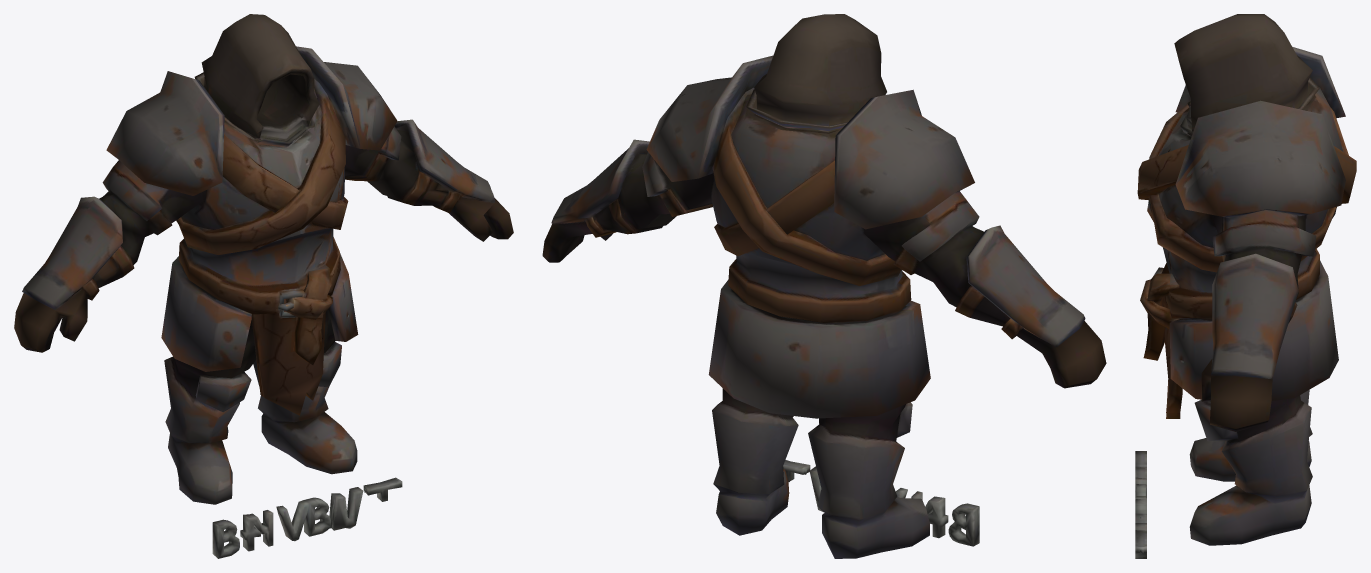
3 views of the same model, side by side, from view 1: azimuth 30°, elevation 25°; view 2: azimuth 150°, elevation 25°; view 3: azimuth 270°, elevation 25° (orthographic). The views are drawn at different scales.
Parts seen in each view (by area): view 1: tripo_node_ca54182f-46a4-43b2-9b21-131967386d23; view 2: tripo_node_ca54182f-46a4-43b2-9b21-131967386d23; view 3: tripo_node_ca54182f-46a4-43b2-9b21-131967386d23.
Boxes of the visible parts, bbox=[...] form: tripo_node_ca54182f-46a4-43b2-9b21-131967386d23: bbox=[14, 14, 513, 558]; tripo_node_ca54182f-46a4-43b2-9b21-131967386d23: bbox=[542, 14, 1106, 558]; tripo_node_ca54182f-46a4-43b2-9b21-131967386d23: bbox=[1135, 14, 1356, 558].
Size of the model in its own units: 0.998 by 0.9473 by 0.3652.
1 material, 1 textured.
